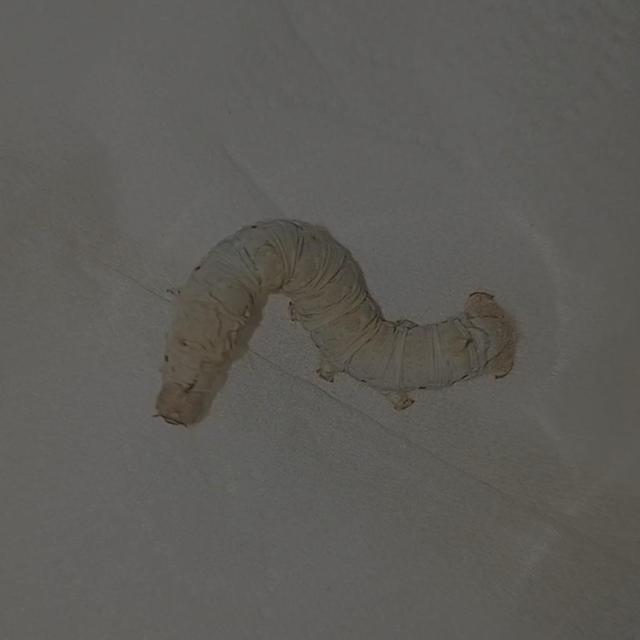Healthy: (142, 206, 528, 430)
